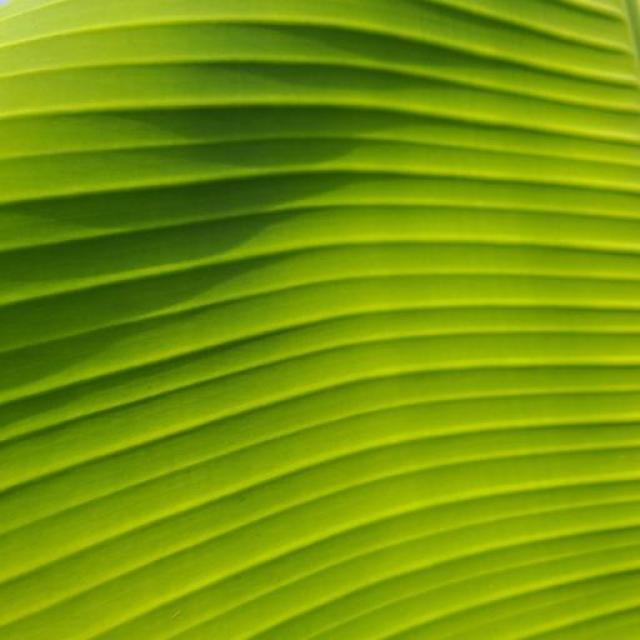Black_leaf_spot: (0, 0, 621, 626)
